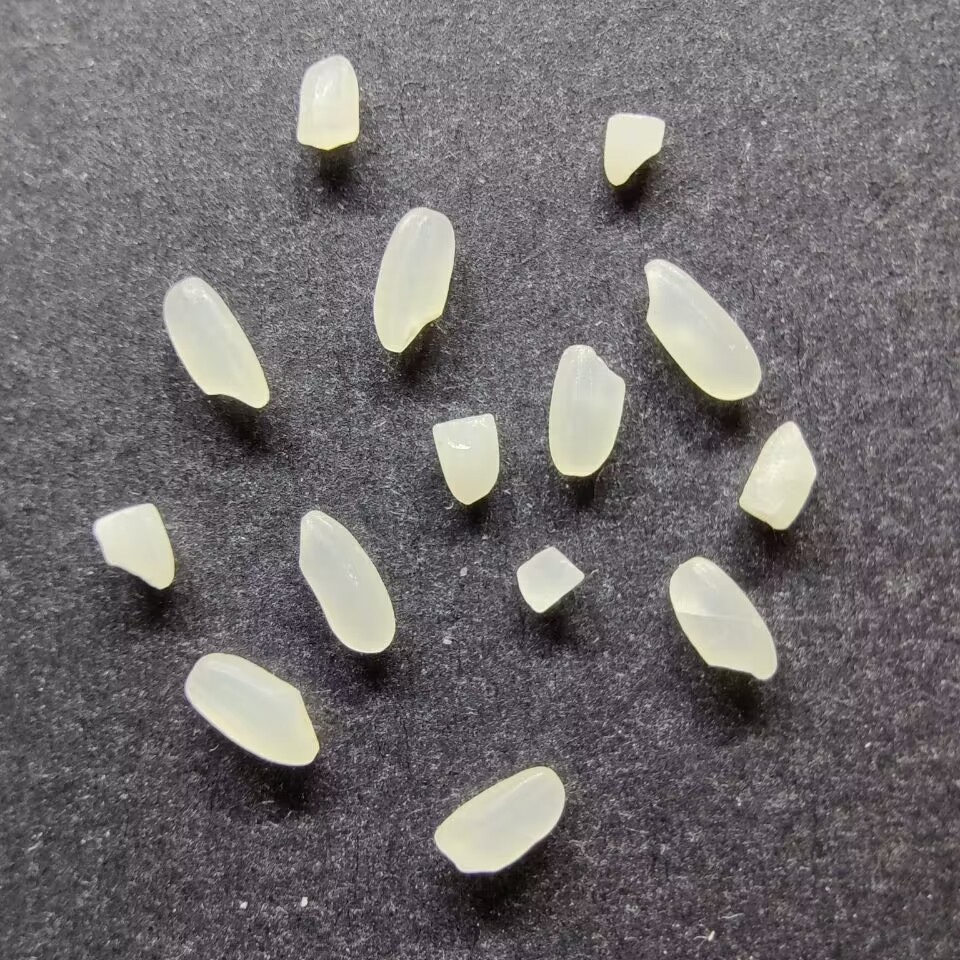broken: (738, 420, 816, 530), (92, 502, 175, 590), (431, 413, 500, 504), (295, 55, 359, 150), (515, 545, 584, 613), (603, 112, 665, 186)
rice: (642, 258, 761, 400), (184, 652, 319, 766), (296, 510, 395, 653), (433, 766, 564, 874), (162, 276, 269, 408), (668, 556, 777, 680), (372, 207, 455, 352), (547, 344, 625, 477)
